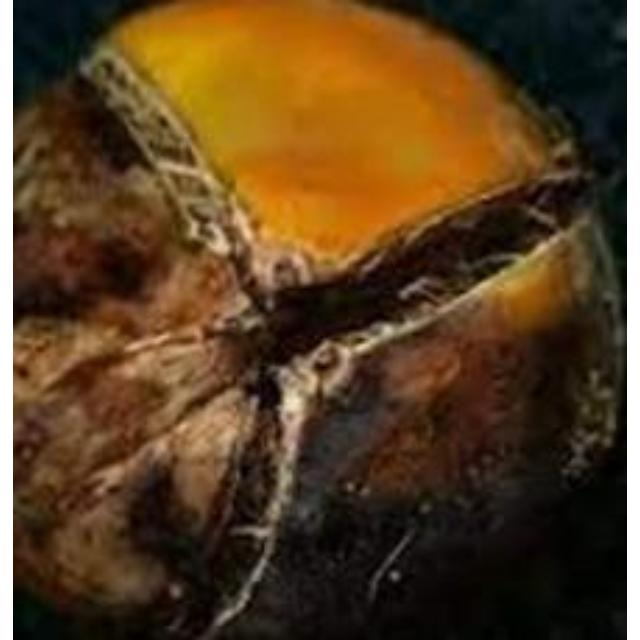damaged: (13, 0, 622, 637)
